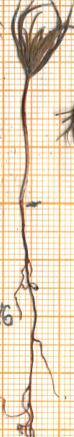flower: (4, 0, 74, 81)
root: (1, 204, 66, 437)
stem: (16, 82, 39, 206)
